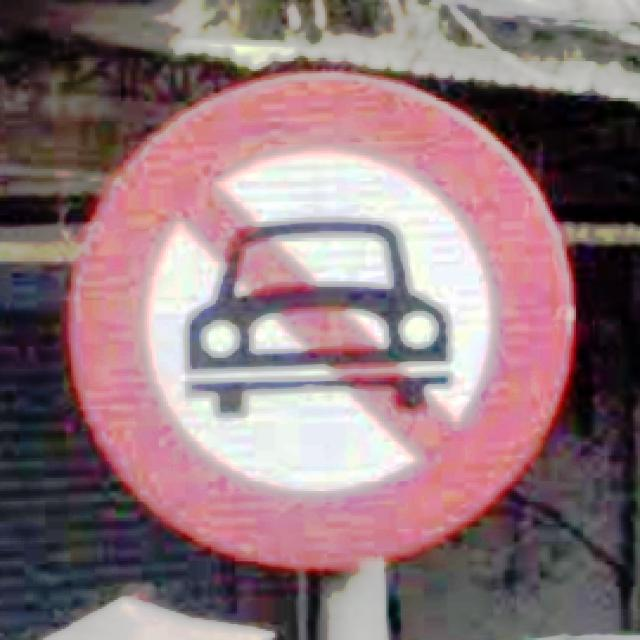nocar: (69, 69, 576, 571)
